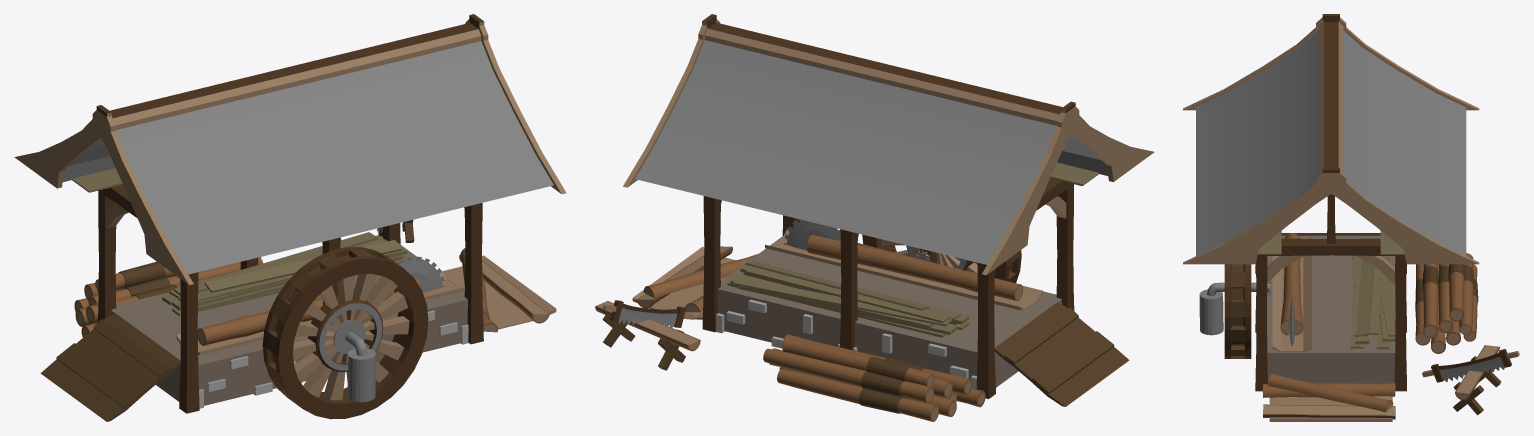
The model's file is MILL_FBX.fbx.
The picture shows the model from 3 angles, left to right: view 1: azimuth 30°, elevation 25°; view 2: azimuth 150°, elevation 25°; view 3: azimuth 270°, elevation 25°; orthographic projection. The views are drawn at different scales.
Parts seen in each view (by area): view 1: polySurface23; view 2: polySurface23; view 3: polySurface23.
Part boxes in pixels (x1,y1,x2,y2): polySurface23: (14, 14, 566, 421); polySurface23: (595, 14, 1154, 421); polySurface23: (1183, 14, 1519, 421).
Bounding box in the file's own units: 54.85 × 36.05 × 42.33.
